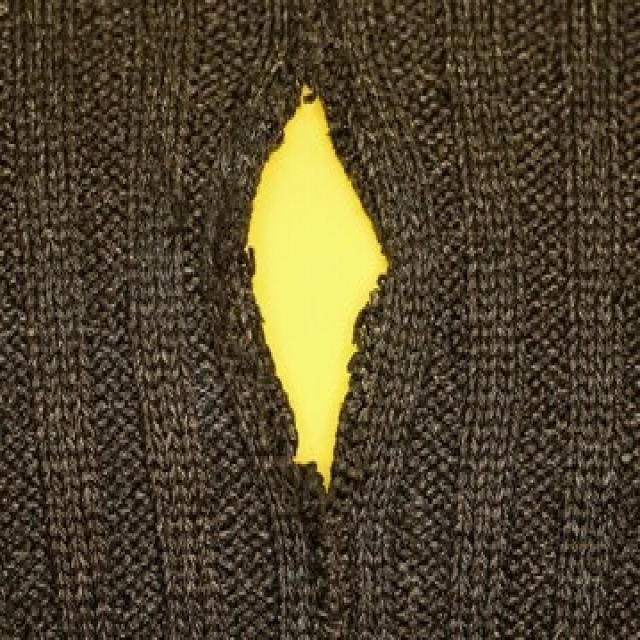Hole: (247, 85, 389, 488)
